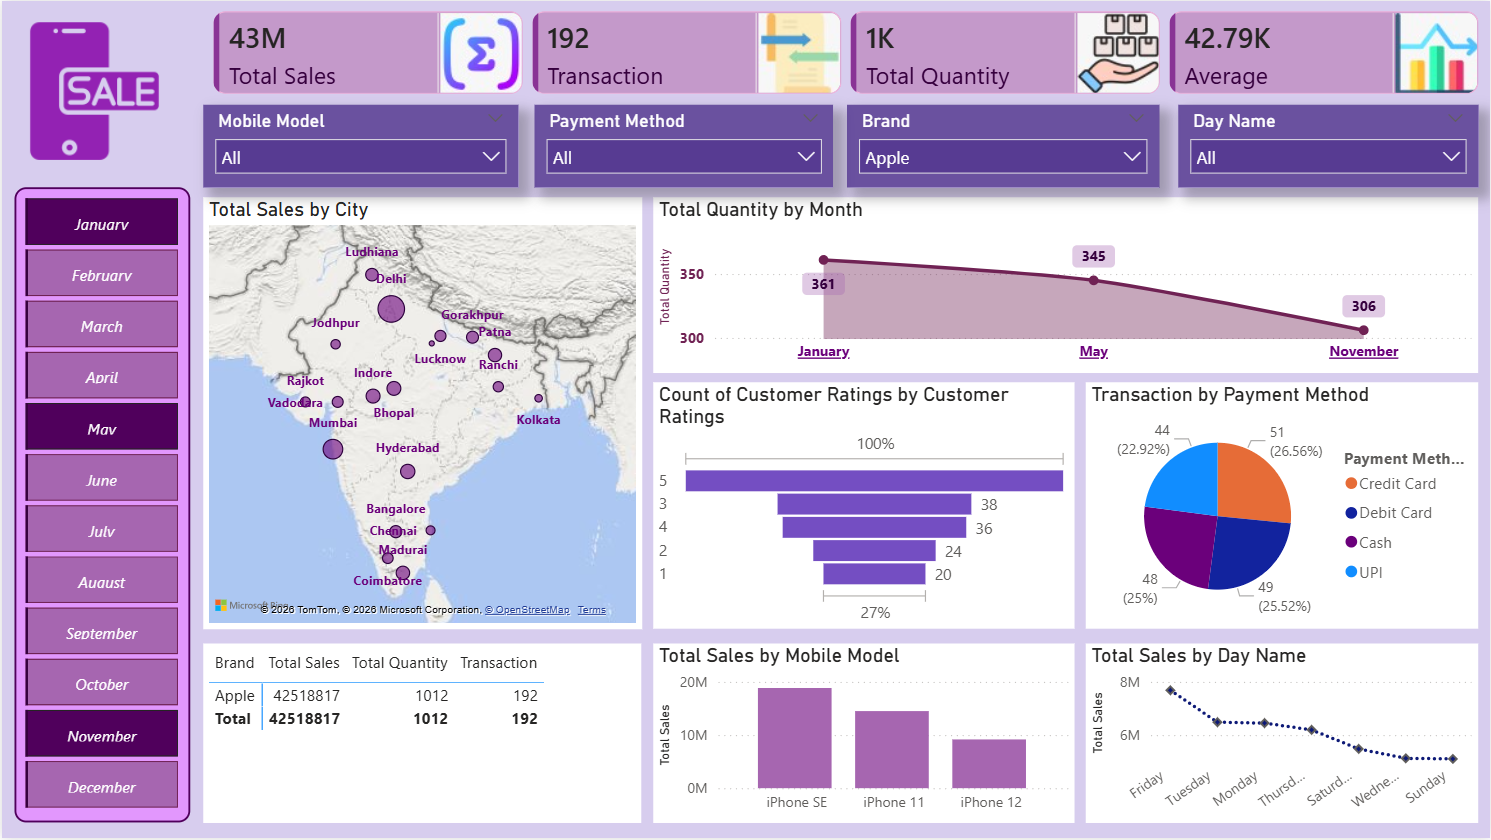

What the dashboard file says about the page in this screenshot:
{"tool":"powerbi","page":{"name":"Project Dashboard","canvas":[1280,720],"ordinal":0},"visuals":[{"type":"image","box":[10.5,18.6,137.2,118.6],"z":0},{"type":"advancedSlicerVisual","title":"MONTH","fields":{"Values":["Sheet1.date.Variation.Date Hierarchy.Month"]},"box":[10.5,160.5,151.2,546.5],"z":1000},{"type":"cardVisual","fields":{"Data":["Mobile_sales_data.Total Sales","Mobile_sales_data.Transaction","Mobile_sales_data.Total Quantity","Mobile_sales_data.Average"]},"box":[173.3,0,1107,89.5],"z":2000},{"type":"map","fields":{"Category":["Mobile_sales_data.City"],"Size":["Mobile_sales_data.Total Sales"]},"box":[173.3,168.6,376.7,370.9],"z":3000},{"type":"lineChart","fields":{"Y":["Mobile_sales_data.Total Quantity"],"Category":["Mobile_sales_data.date.Variation.Date Hierarchy.Month"]},"box":[560.5,168.6,709.3,151.2],"z":4000},{"type":"funnel","fields":{"Category":["Mobile_sales_data.Customer Ratings"],"Y":["CountNonNull(Mobile_sales_data.Customer Ratings)"]},"box":[560.5,327.9,362.8,211.6],"z":5000},{"type":"pieChart","fields":{"Category":["Mobile_sales_data.Payment Method"],"Y":["Mobile_sales_data.Transaction"]},"box":[932.6,327.9,337.2,211.6],"z":6000},{"type":"pivotTable","fields":{"Rows":["Mobile_sales_data.Brand"],"Values":["Mobile_sales_data.Total Sales","Mobile_sales_data.Total Quantity","Mobile_sales_data.Transaction"]},"box":[173.3,552.3,376.7,154.7],"z":7000},{"type":"columnChart","fields":{"Category":["Mobile_sales_data.Mobile Model"],"Y":["Mobile_sales_data.Total Sales"]},"box":[560.5,552.3,362.8,154.7],"z":8000},{"type":"lineChart","fields":{"Category":["Mobile_sales_data.Day Name"],"Y":["Mobile_sales_data.Total Sales"]},"box":[932.6,552.3,337.2,154.7],"z":9000},{"type":"slicer","fields":{"Values":["Mobile_sales_data.Mobile Model"]},"box":[173.3,89.5,270.9,70.9],"z":10000},{"type":"slicer","fields":{"Values":["Mobile_sales_data.Payment Method"]},"box":[458.1,89.5,257,70.9],"z":11000},{"type":"slicer","fields":{"Values":["Mobile_sales_data.Brand"]},"box":[726.7,89.5,268.6,70.9],"z":12000},{"type":"slicer","fields":{"Values":["Mobile_sales_data.Day Name"]},"box":[1011.6,89.5,258.1,70.9],"z":13000}]}

Visuals, with their boxes in screenshot pixels (x1, y1, x2, y2), scaled from the page's 1280x720 canvas onto the 1491x840 screenshot:
image: crop(12, 22, 172, 160)
"MONTH" advancedSlicerVisual: crop(12, 187, 188, 825)
cardVisual - Mobile_sales_data.Total Sales x Mobile_sales_data.Transaction: crop(202, 0, 1490, 104)
map - Mobile_sales_data.City x Mobile_sales_data.Total Sales: crop(202, 197, 641, 629)
lineChart - Mobile_sales_data.Total Quantity x Mobile_sales_data.date.Variation.Date Hierarchy.Month: crop(653, 197, 1479, 373)
funnel - Mobile_sales_data.Customer Ratings x CountNonNull(Mobile_sales_data.Customer Ratings): crop(653, 383, 1076, 629)
pieChart - Mobile_sales_data.Payment Method x Mobile_sales_data.Transaction: crop(1086, 383, 1479, 629)
pivotTable - Mobile_sales_data.Brand x Mobile_sales_data.Total Sales: crop(202, 644, 641, 825)
columnChart - Mobile_sales_data.Mobile Model x Mobile_sales_data.Total Sales: crop(653, 644, 1076, 825)
lineChart - Mobile_sales_data.Day Name x Mobile_sales_data.Total Sales: crop(1086, 644, 1479, 825)
slicer - Mobile_sales_data.Mobile Model: crop(202, 104, 517, 187)
slicer - Mobile_sales_data.Payment Method: crop(534, 104, 833, 187)
slicer - Mobile_sales_data.Brand: crop(846, 104, 1159, 187)
slicer - Mobile_sales_data.Day Name: crop(1178, 104, 1479, 187)
